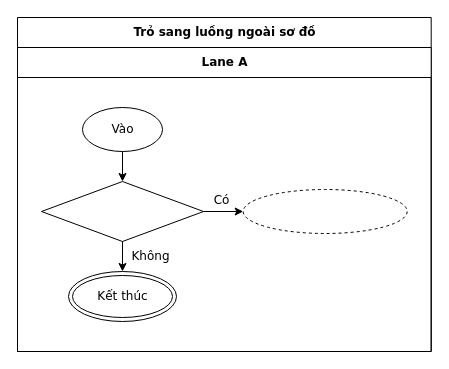
Some shapes in this 449 by 369 pixel diagram are drawn without their labels. Here are the shapes that lost their labels. From the top down, the centre of each, then its label:
the point at 122,211: Cần hoàn tiền?
the point at 324,211: Luồng hoàn tiền
